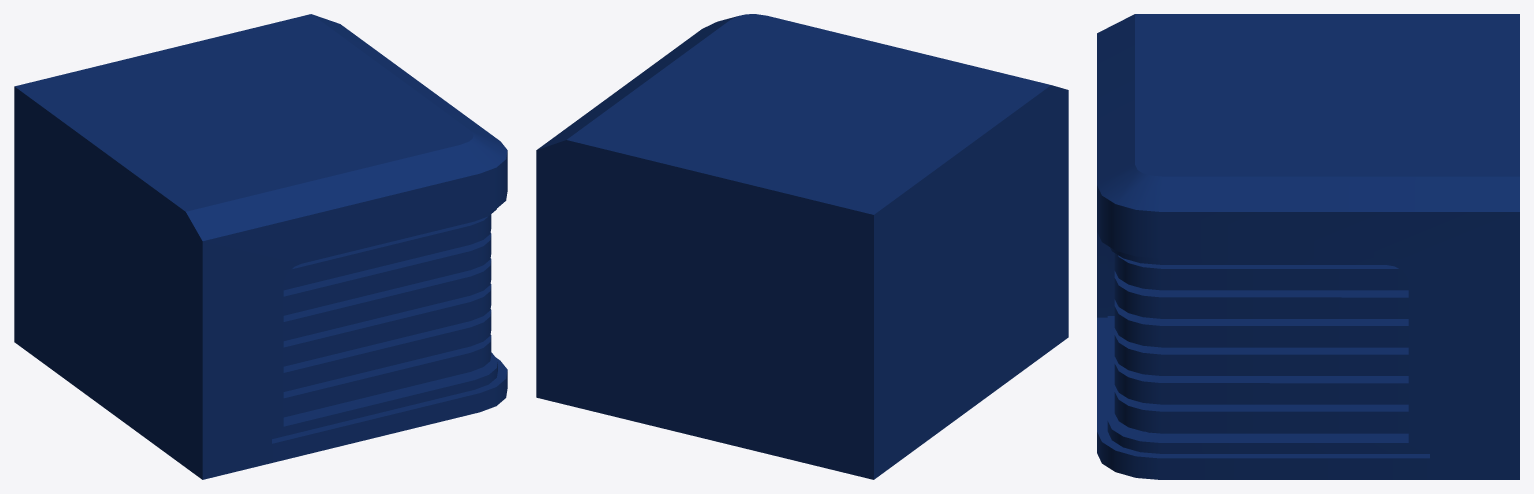
The model's file is RoofTop_vent.fbx.
3 renders of one model, left to right at view 1: azimuth 30°, elevation 25°; view 2: azimuth 150°, elevation 25°; view 3: azimuth 270°, elevation 25°, orthographic. The views are drawn at different scales.
Parts seen in each view (by area): view 1: RoofTop_vent; view 2: RoofTop_vent; view 3: RoofTop_vent.
Boxes of the visible parts, left/top/right/bottom form: RoofTop_vent: left=14, top=14, right=507, bottom=479; RoofTop_vent: left=536, top=14, right=1068, bottom=479; RoofTop_vent: left=1097, top=14, right=1519, bottom=479.
Size of the model in its own units: 200 by 150 by 200.
